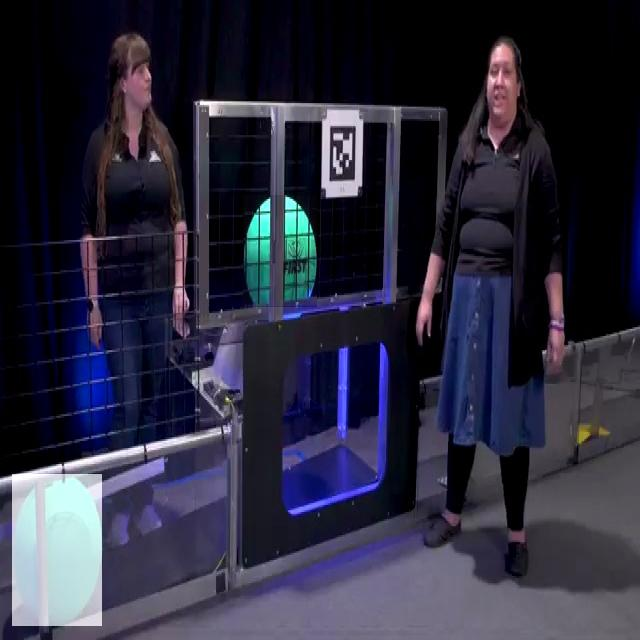Algae: (12, 474, 102, 626), (243, 195, 317, 308)
